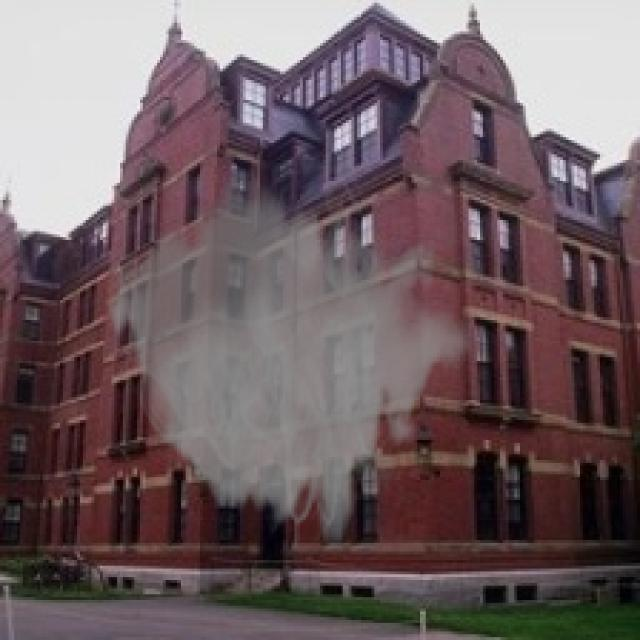smoke: (106, 143, 474, 563)
